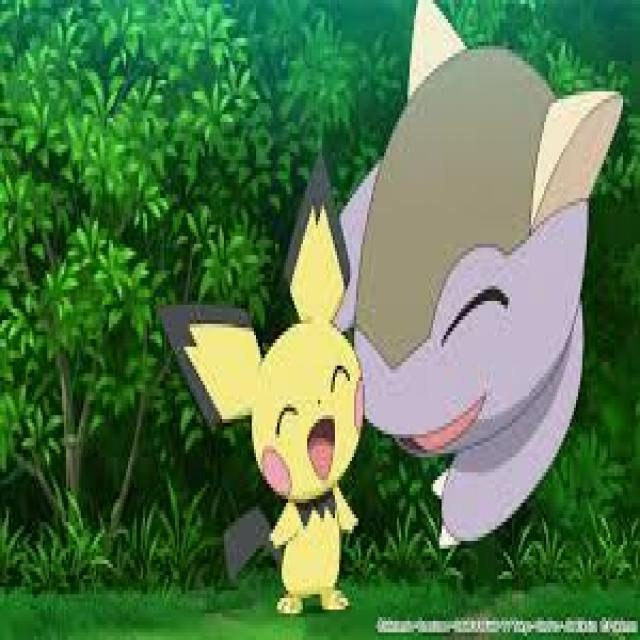pichu: (156, 151, 368, 634)
